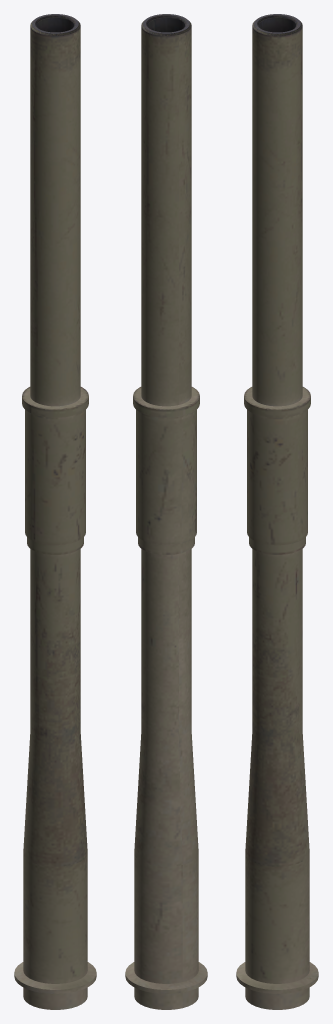
The model's file is Gun_01.glb.
The picture shows the model from 3 angles, left to right: view 1: azimuth 30°, elevation 25°; view 2: azimuth 210°, elevation 25°; view 3: azimuth 330°, elevation 25°; orthographic projection.
Parts seen in each view (by area): view 1: set_0_group_0; view 2: set_0_group_0; view 3: set_0_group_0.
Part boxes in pixels (x1,y1,x2,y2): set_0_group_0: [14, 14, 96, 1009]; set_0_group_0: [125, 14, 207, 1009]; set_0_group_0: [236, 14, 318, 1009].
Bounding box in the file's own units: 0.401 × 5.26 × 0.4032.
Materials: 1 (1 with a texture image).
